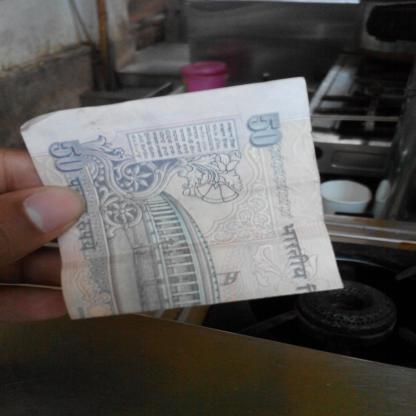Old50Back: (19, 75, 345, 320)
